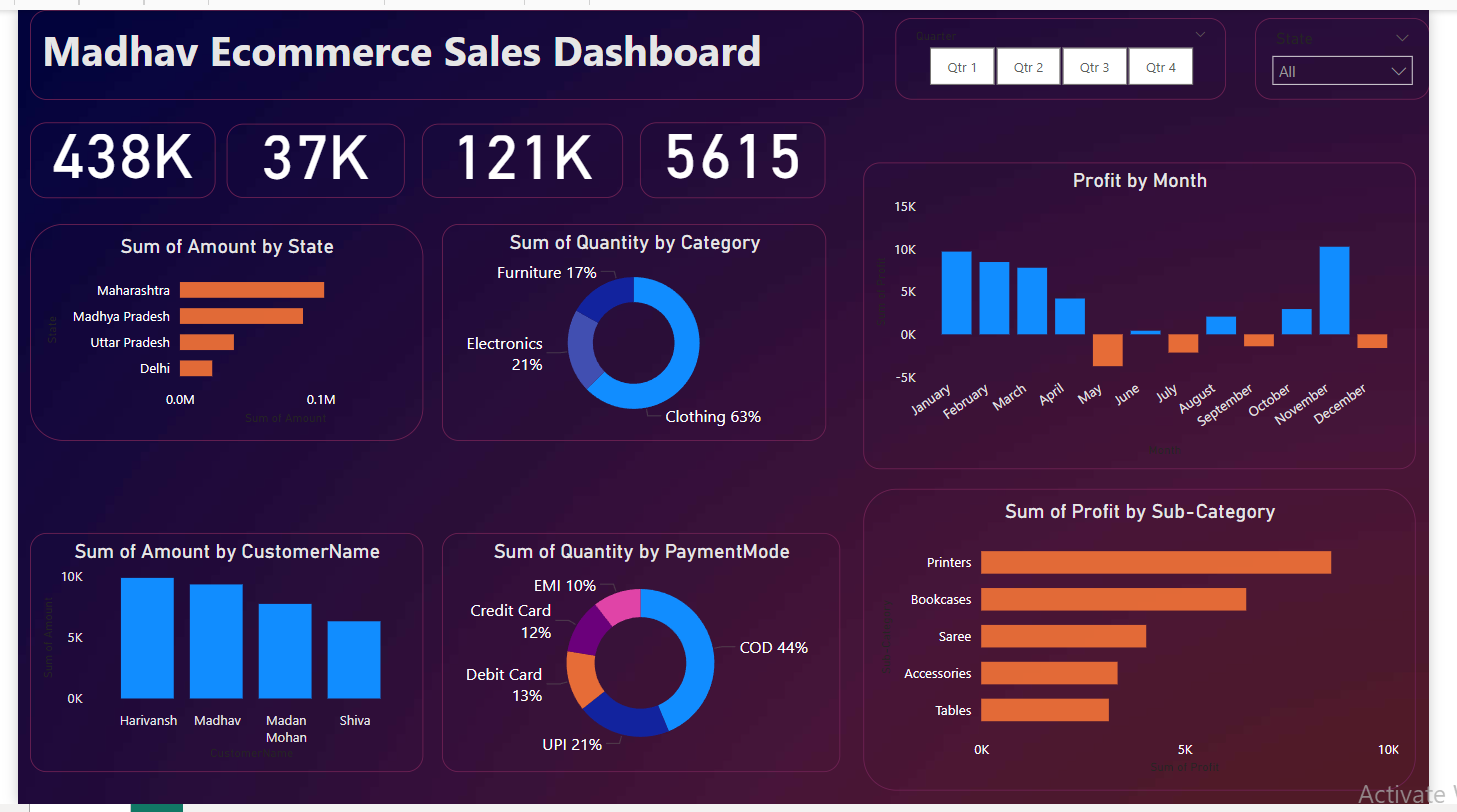

The page's visual inventory and layout, read from the dashboard file:
{"tool":"powerbi","page":{"name":"Page 1","canvas":[1280,720],"ordinal":0},"visuals":[{"type":"textbox","box":[10.8,0,755.8,81.4],"z":0},{"type":"columnChart","title":"Profit by Month","fields":{"Category":["Orders.Order Date.Variation.Date Hierarchy.Month"],"Y":["Details.Profit"]},"box":[766.5,138.3,500.8,278],"z":1000},{"type":"barChart","fields":{"Category":["Details.Sub-Category"],"Y":["Details.Profit"]},"box":[766.5,434.7,500.8,273.4],"z":2000},{"type":"donutChart","fields":{"Y":["Details.Quantity"],"Category":["Details.PaymentMode"]},"box":[384,474.7,361,216.6],"z":3000},{"type":"donutChart","fields":{"Category":["Details.Category"],"Y":["Details.Quantity"]},"box":[384,193.6,348.7,196.6],"z":4000},{"type":"card","fields":{"Values":["Details.Amount"]},"box":[10.6,102,168.2,68.9],"z":5000},{"type":"card","fields":{"Values":["Details.Quantity"]},"box":[564.2,102,168.2,68.9],"z":6000},{"type":"card","fields":{"Values":["Details.Profit"]},"box":[189.4,103.3,161.6,67.5],"z":7000},{"type":"card","fields":{"Values":["Details.Aov"]},"box":[366.9,103.3,182.8,67.5],"z":8000},{"type":"barChart","fields":{"Category":["Orders.State"],"Y":["Details.Amount"]},"box":[10.8,193.6,356.4,196.6],"z":9000},{"type":"columnChart","fields":{"Y":["Details.Amount"],"Category":["Orders.CustomerName"]},"box":[10.8,474.7,356.4,216.6],"z":10000},{"type":"slicer","fields":{"Values":["Orders.Order Date.Variation.Date Hierarchy.Quarter"]},"box":[795.7,7.7,299.5,73.7],"z":11000},{"type":"slicer","fields":{"Values":["Orders.State"]},"box":[1121.4,7.7,158.2,73.7],"z":12000}]}

Visuals, with their boxes in screenshot pixels (x1, y1, x2, y2), scaled from the page's 1280x720 canvas onto the 1457x812 screenshot:
textbox: rect(12, 0, 873, 92)
"Profit by Month" columnChart: rect(872, 156, 1443, 469)
barChart - Details.Sub-Category x Details.Profit: rect(872, 490, 1443, 799)
donutChart - Details.Quantity x Details.PaymentMode: rect(437, 535, 848, 780)
donutChart - Details.Category x Details.Quantity: rect(437, 218, 834, 440)
card - Details.Amount: rect(12, 115, 204, 193)
card - Details.Quantity: rect(642, 115, 834, 193)
card - Details.Profit: rect(216, 116, 400, 193)
card - Details.Aov: rect(418, 116, 626, 193)
barChart - Orders.State x Details.Amount: rect(12, 218, 418, 440)
columnChart - Details.Amount x Orders.CustomerName: rect(12, 535, 418, 780)
slicer - Orders.Order Date.Variation.Date Hierarchy.Quarter: rect(906, 9, 1247, 92)
slicer - Orders.State: rect(1276, 9, 1456, 92)
